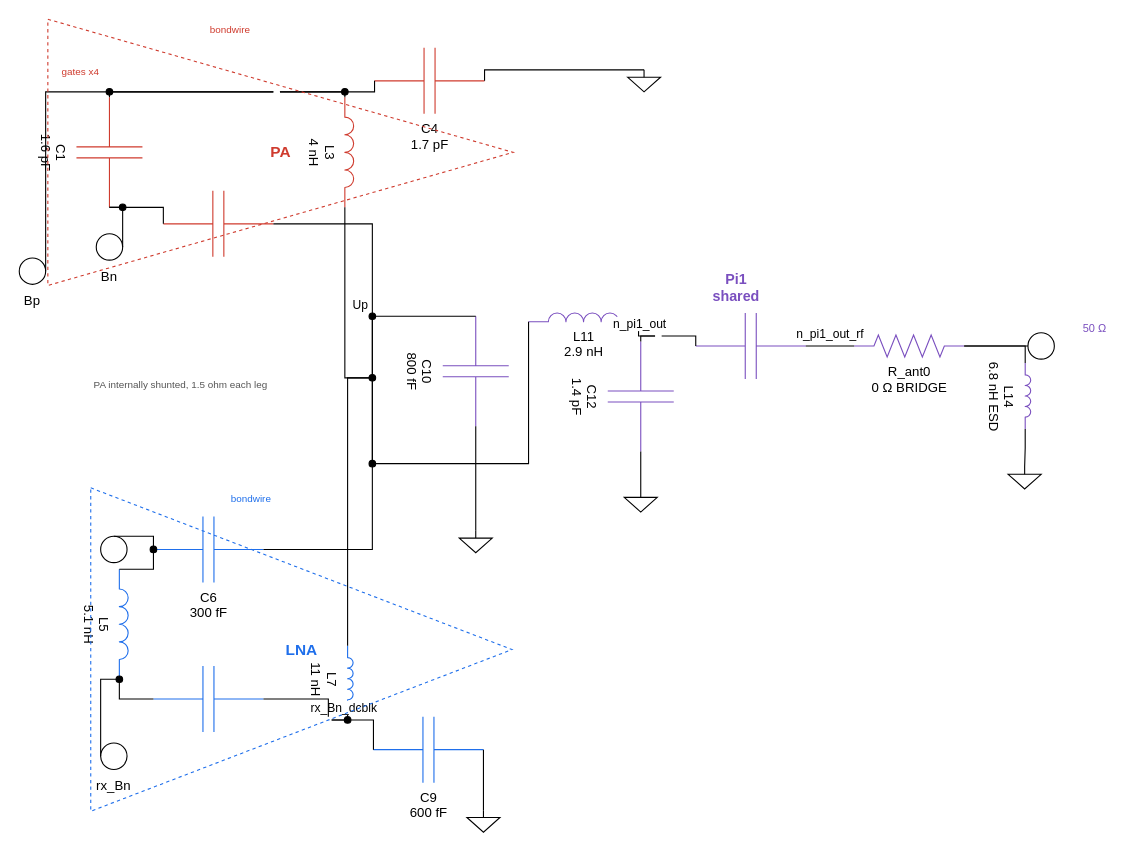
This 1129x851 diagram has some shape labels left out. The centre of each missing label's shape, as x and y in pixels:
ANT: (x=1040, y=345)
C13 33 pF DC BLOCK: (x=750, y=345)
C2 1 pF: (x=217, y=223)
C8 10 pF: (x=207, y=698)
rx_Bp: (x=113, y=549)
